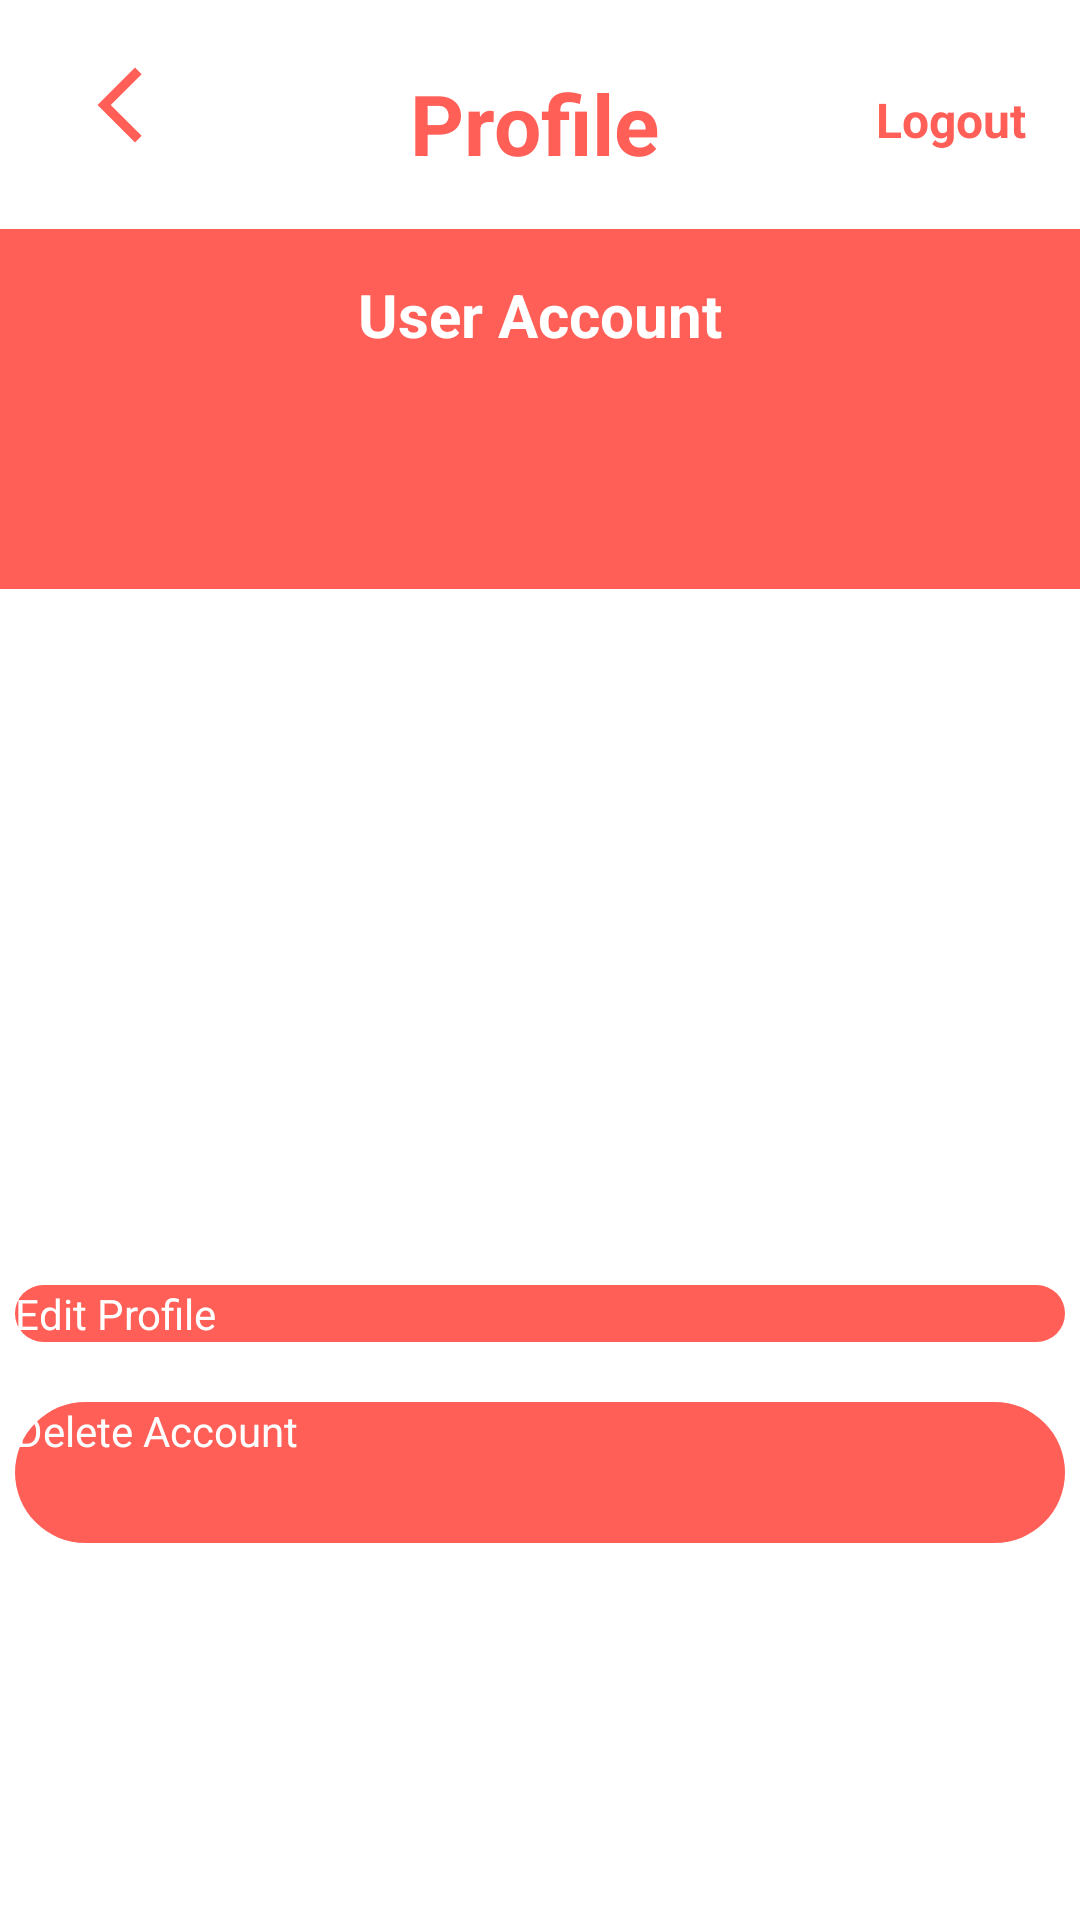

Where icons sit on this 1080 x 1920 app screen, as (x1, y1, x2, y2):
arrow back: (98, 68, 142, 142)
